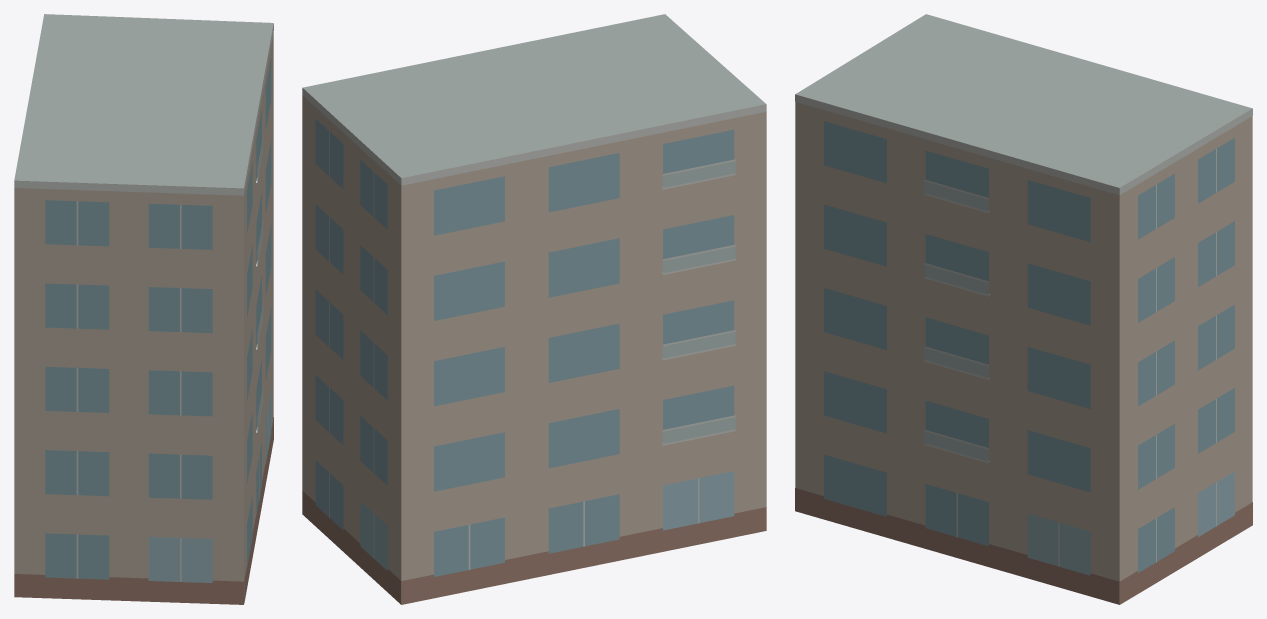
Rendered from survey-upis-32857222.glb.
3 views of the same model, side by side, from view 1: azimuth 30°, elevation 25°; view 2: azimuth 150°, elevation 25°; view 3: azimuth 270°, elevation 25° (orthographic). The views are drawn at different scales.
Parts seen in each view (by area): view 1: survey-upis-32857222.tmp; view 2: survey-upis-32857222.tmp; view 3: survey-upis-32857222.tmp.
Boxes of the visible parts, left/top/right/bottom form: survey-upis-32857222.tmp: left=14, top=14, right=273, bottom=604; survey-upis-32857222.tmp: left=302, top=14, right=766, bottom=604; survey-upis-32857222.tmp: left=795, top=14, right=1252, bottom=604.
Bounding box in the file's own units: 12.45 × 13.9 × 13.84.
